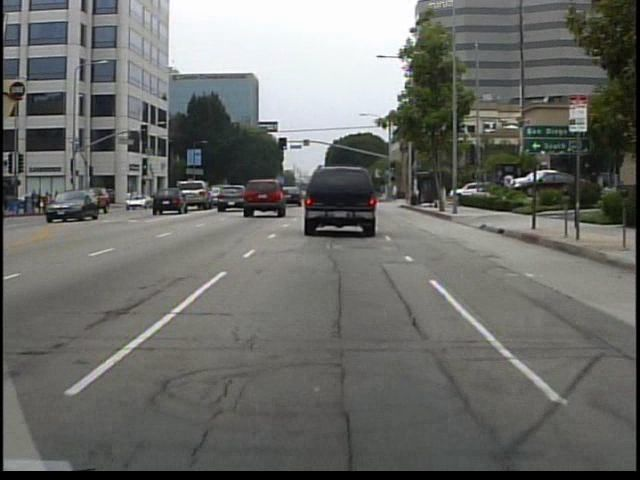person: (391, 182, 402, 203), (129, 192, 132, 210)
